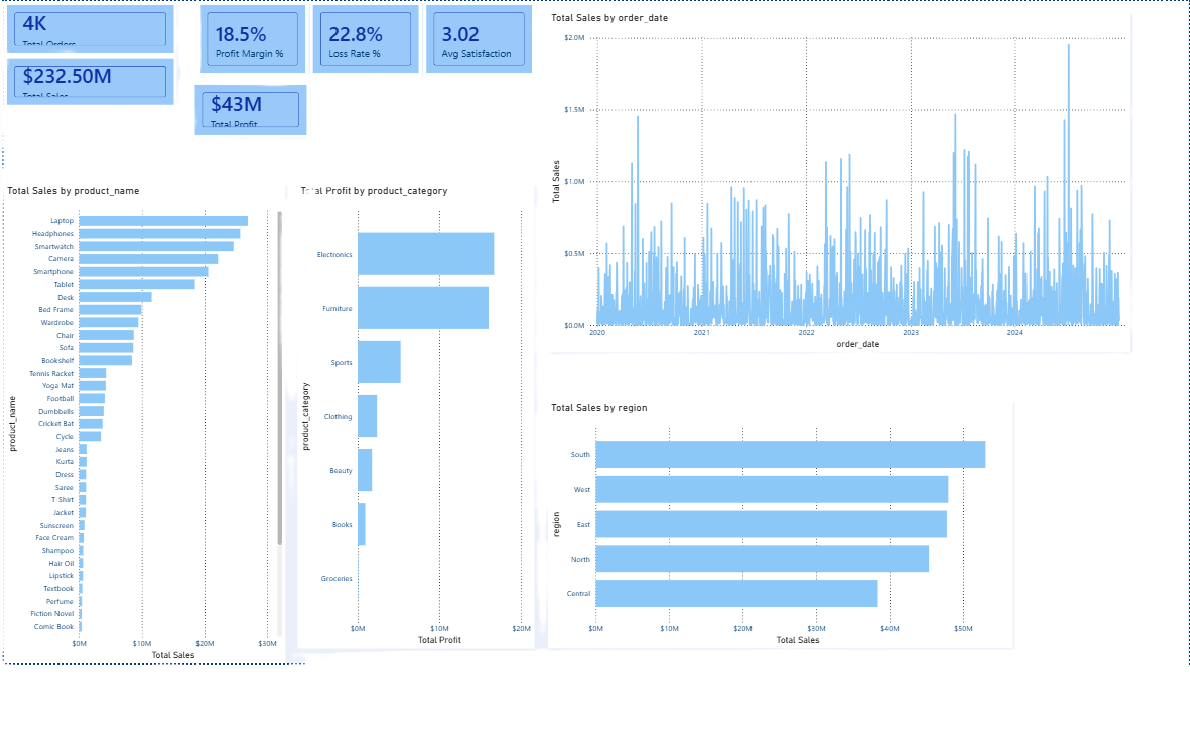

The page's visual inventory and layout, read from the dashboard file:
{"tool":"powerbi","page":{"name":"overview","canvas":[1920,1080],"ordinal":0},"visuals":[{"type":"barChart","fields":{"Category":["sales_clean.region"],"Y":["sales_clean.Total Sales"]},"box":[881.3,652,753.7,403.7],"z":0},{"type":"cardVisual","fields":{"Data":["sales_clean.Total Orders"]},"box":[0,0,280.3,88.5],"z":1000},{"type":"cardVisual","fields":{"Data":["sales_clean.Total Sales"]},"box":[0,88.5,280.3,85.2],"z":2000},{"type":"cardVisual","fields":{"Data":["sales_clean.Total Profit"]},"box":[303.3,131.1,191.8,91.8],"z":3000},{"type":"cardVisual","fields":{"Data":["sales_clean.Profit Margin %"]},"box":[313.1,0,182,121.3],"z":4000},{"type":"cardVisual","fields":{"Data":["sales_clean.Loss Rate %"]},"box":[496.7,0,182,121.3],"z":5000},{"type":"clusteredBarChart","fields":{"Category":["sales_clean.product_category"],"Y":["sales_clean.Total Profit"]},"box":[476,298.7,384,757.3],"z":6000},{"type":"clusteredBarChart","fields":{"Category":["sales_clean.product_name"],"Y":["sales_clean.Total Sales"]},"box":[0,298.7,456,781.3],"z":7000},{"type":"lineChart","fields":{"Category":["sales_clean.order_date"],"Y":["sales_clean.Total Sales"]},"box":[881.3,14.7,944,557.3],"z":8000},{"type":"cardVisual","fields":{"Data":["sales_clean.Avg Satisfaction"]},"box":[678.7,0,182,121.3],"z":9000}]}

Visuals, with their boxes on the page's 1920x1080 design canvas (x1, y1, x2, y2). These are canvas units, not pixel positions in the 1190x731 screenshot, which may show the page scaled, cropped or inside an application window:
barChart - sales_clean.region x sales_clean.Total Sales: {"x1": 881, "y1": 652, "x2": 1635, "y2": 1056}
cardVisual - sales_clean.Total Orders: {"x1": 0, "y1": 0, "x2": 280, "y2": 88}
cardVisual - sales_clean.Total Sales: {"x1": 0, "y1": 88, "x2": 280, "y2": 174}
cardVisual - sales_clean.Total Profit: {"x1": 303, "y1": 131, "x2": 495, "y2": 223}
cardVisual - sales_clean.Profit Margin %: {"x1": 313, "y1": 0, "x2": 495, "y2": 121}
cardVisual - sales_clean.Loss Rate %: {"x1": 497, "y1": 0, "x2": 679, "y2": 121}
clusteredBarChart - sales_clean.product_category x sales_clean.Total Profit: {"x1": 476, "y1": 299, "x2": 860, "y2": 1056}
clusteredBarChart - sales_clean.product_name x sales_clean.Total Sales: {"x1": 0, "y1": 299, "x2": 456, "y2": 1080}
lineChart - sales_clean.order_date x sales_clean.Total Sales: {"x1": 881, "y1": 15, "x2": 1825, "y2": 572}
cardVisual - sales_clean.Avg Satisfaction: {"x1": 679, "y1": 0, "x2": 861, "y2": 121}
